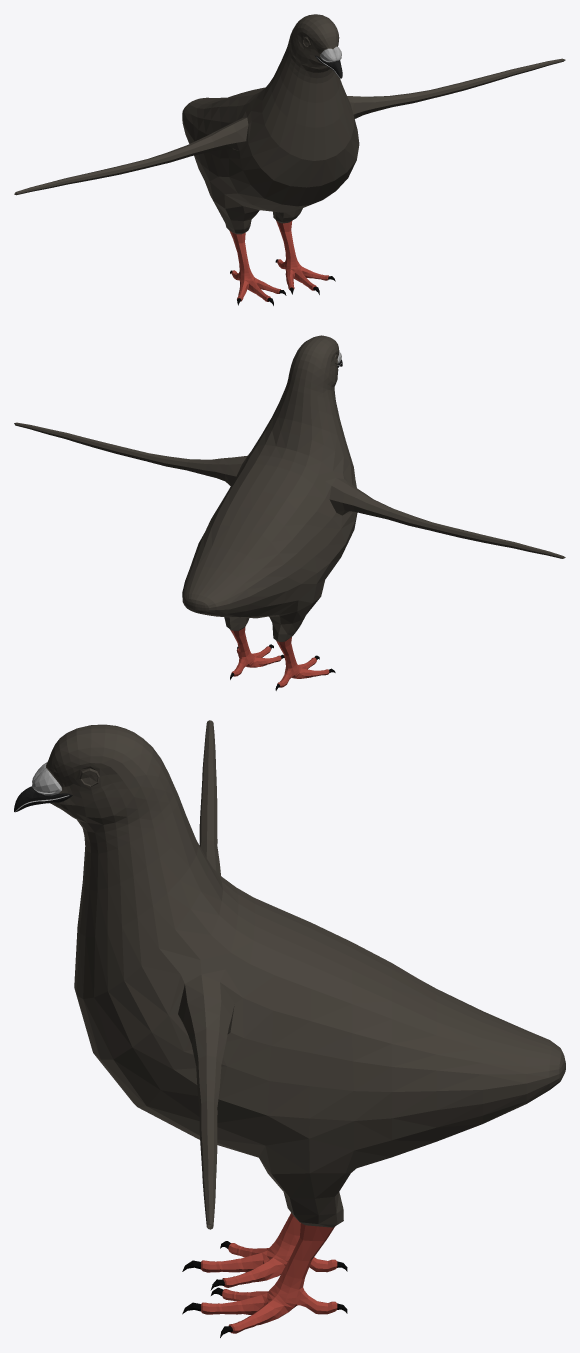
File: pigeon_pigeon_triangulated.obj
The picture shows the model from 3 angles, top to bottom: view 1: azimuth 30°, elevation 25°; view 2: azimuth 150°, elevation 25°; view 3: azimuth 270°, elevation 25°; orthographic projection. The views are drawn at different scales.
Bounding box in the file's own units: 0.4843 × 0.2511 × 0.2222.
